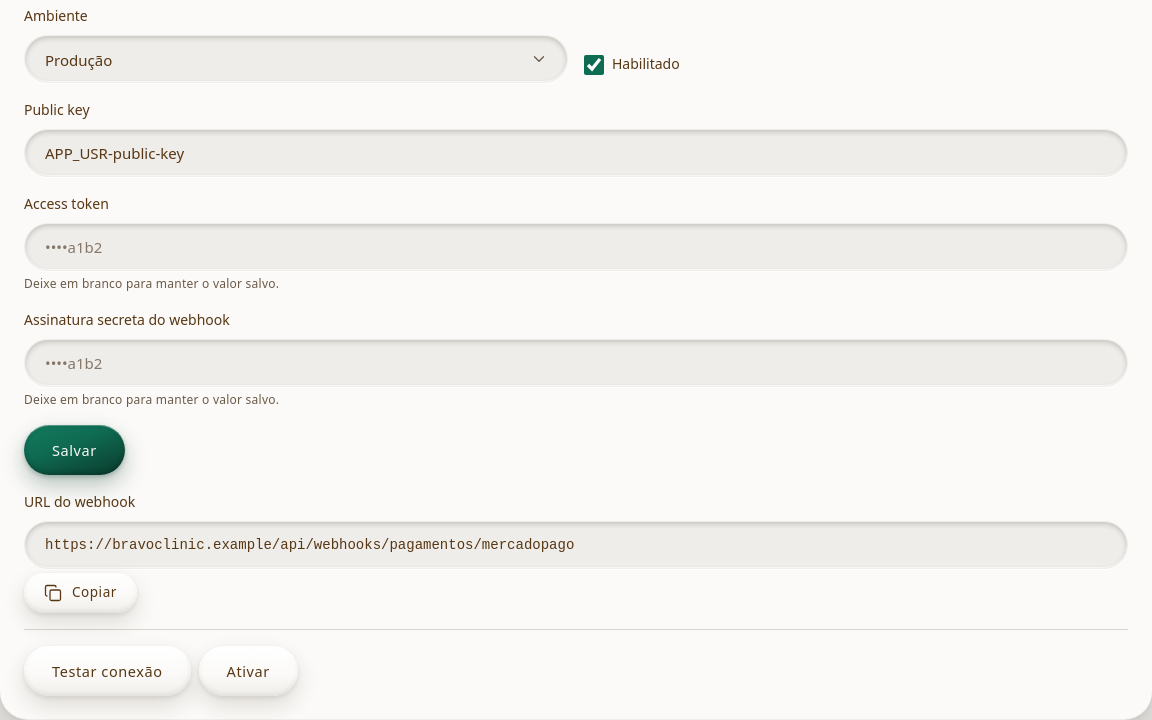
it: PaymentsTab credentials (GES-36) › leaves secret inputs empty with the stored hint as placeholder and sends empty secrets on save
(page scrolled)
Expected: the password field labelled "Access token" is empty, x1=24 y1=223 x2=1128 y2=271
Expected: the password field labelled "Assinatura secreta do webhook" is empty, x1=24 y1=339 x2=1128 y2=387
Click the button "Salvar" at (74, 450), box x1=24 y1=425 x2=125 y2=475
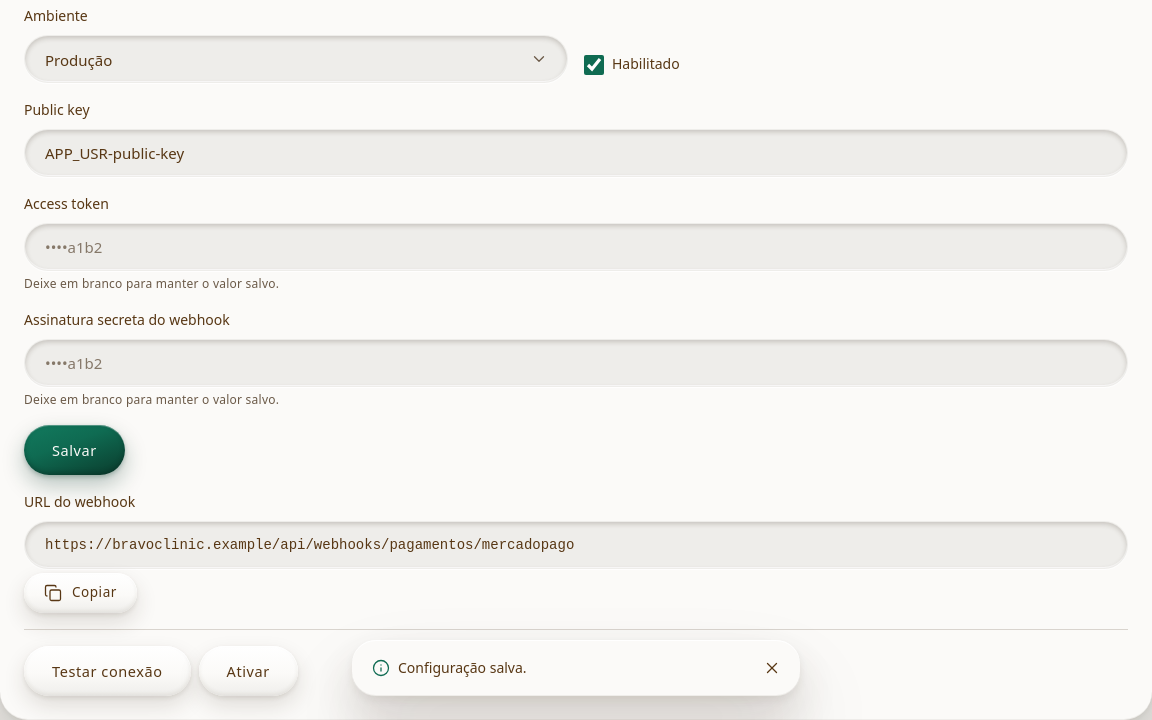
Now the text "Configuração salva." is shown, box x1=398 y1=658 x2=527 y2=677
